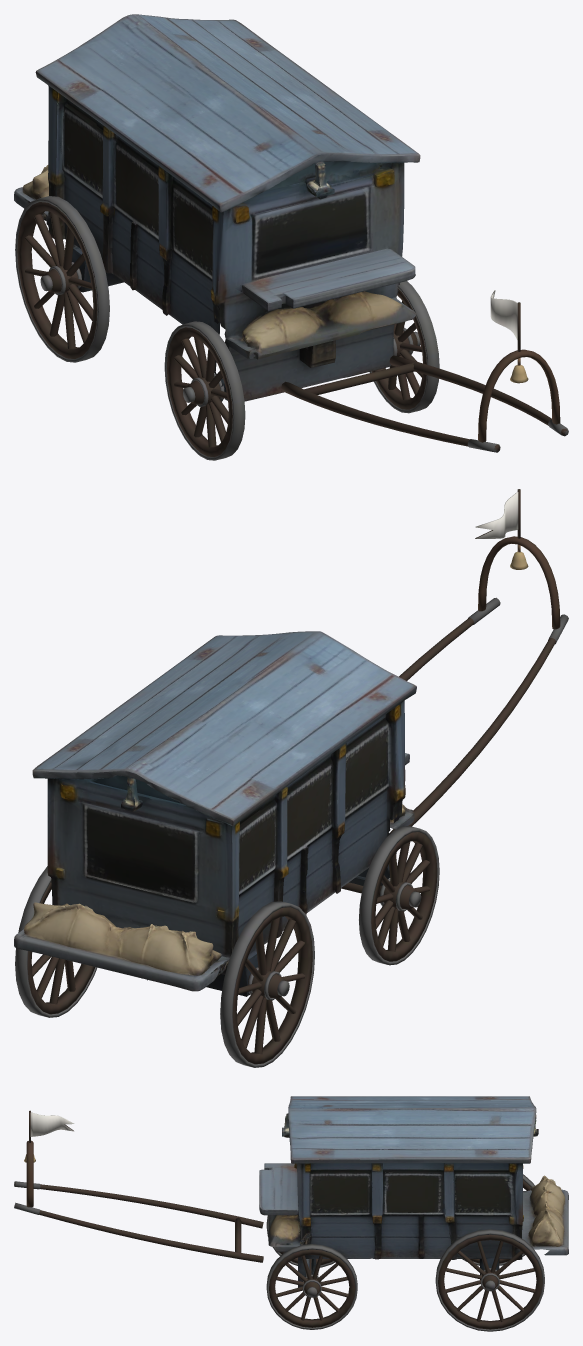
File: prop-wagon-shipment.glb
3 renders of one model, top to bottom at view 1: azimuth 30°, elevation 25°; view 2: azimuth 150°, elevation 25°; view 3: azimuth 270°, elevation 25°, orthographic. The views are drawn at different scales.
Visible parts, largest first — view 1: wagon-body, wagon-wheels-front, wagon-wheels-rear, wagon-harness; view 2: wagon-body, wagon-wheels-rear, wagon-wheels-front, wagon-harness; view 3: wagon-body, wagon-wheels-rear, wagon-harness, wagon-wheels-front.
Part boxes in pixels (left/top/right/bottom): wagon-body: left=14, top=14, right=420, bottom=401; wagon-wheels-front: left=164, top=281, right=439, bottom=460; wagon-wheels-rear: left=15, top=196, right=109, bottom=362; wagon-harness: left=281, top=290, right=568, bottom=452; wagon-body: left=14, top=631, right=416, bottom=996; wagon-wheels-rear: left=15, top=866, right=314, bottom=1067; wagon-wheels-front: left=341, top=826, right=439, bottom=965; wagon-harness: left=390, top=489, right=568, bottom=833; wagon-body: left=259, top=1096, right=568, bottom=1287; wagon-wheels-rear: left=435, top=1174, right=544, bottom=1331; wagon-harness: left=14, top=1110, right=263, bottom=1262; wagon-wheels-front: left=266, top=1215, right=357, bottom=1329.
Bounding box in the file's own units: 1.79 × 2.06 × 5.48.
2 materials, 2 textured.
